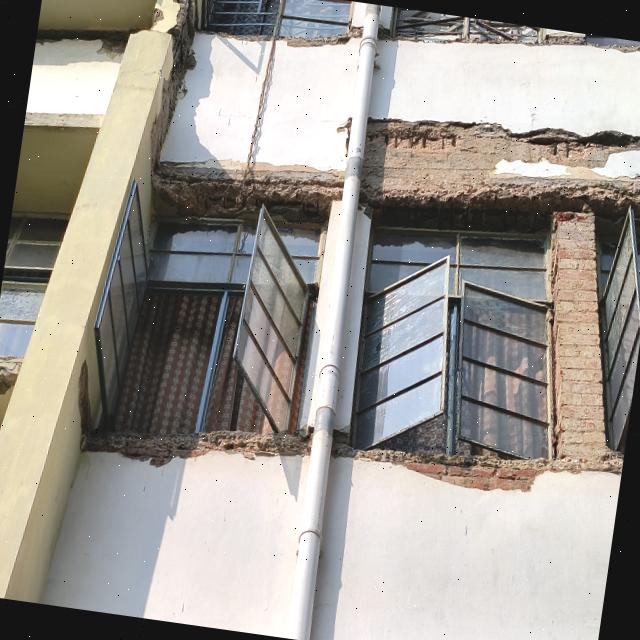peeling: (332, 443, 624, 491), (82, 430, 311, 466), (284, 28, 362, 48), (472, 33, 589, 45), (78, 360, 91, 435), (608, 45, 640, 52)
spalling: (360, 118, 640, 233), (549, 212, 606, 458), (153, 160, 343, 222), (151, 0, 197, 168), (405, 463, 542, 492), (36, 29, 133, 59), (0, 357, 23, 395)
